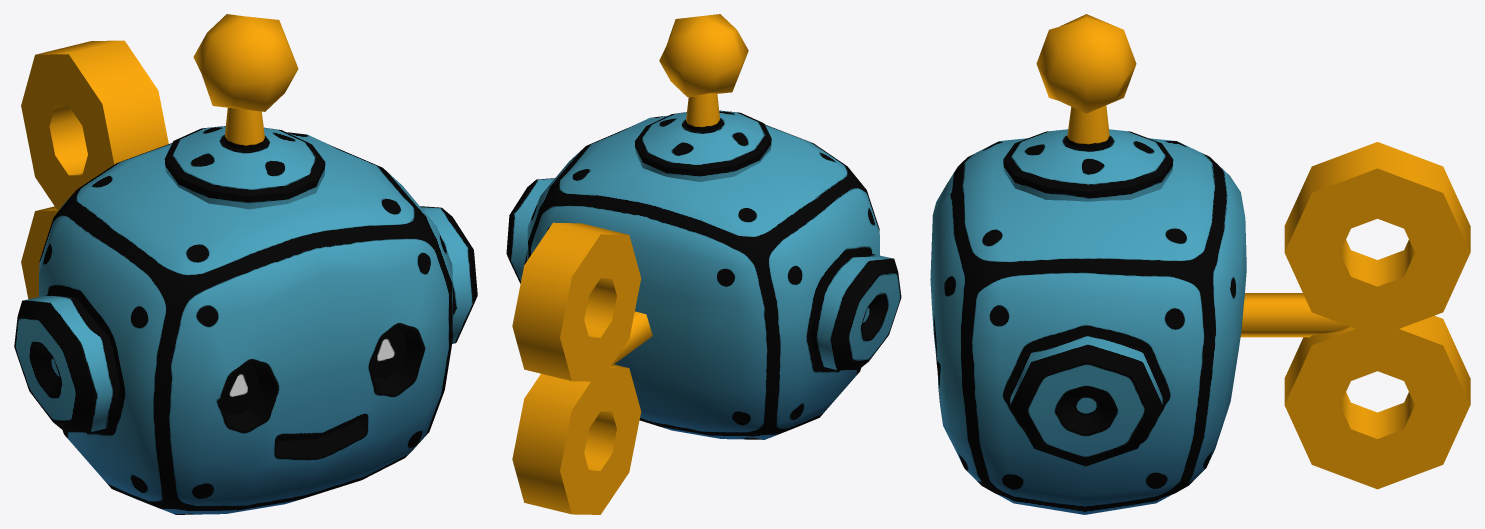
The model's file is TinkerBot.glb.
3 renders of one model, left to right at view 1: azimuth 30°, elevation 25°; view 2: azimuth 150°, elevation 25°; view 3: azimuth 270°, elevation 25°, orthographic. The views are drawn at different scales.
Parts seen in each view (by area): view 1: Bot, Key; view 2: Bot, Key; view 3: Bot, Key.
Part boxes in pixels (x1,y1,x2,y2): Bot: (14,14,477,514); Key: (21,40,168,299); Bot: (506,14,901,439); Key: (512,222,652,514); Bot: (930,14,1246,514); Key: (1240,142,1470,489).
Bounding box in the file's own units: 2.87 × 3.12 × 3.33.
1 material, 1 textured.
